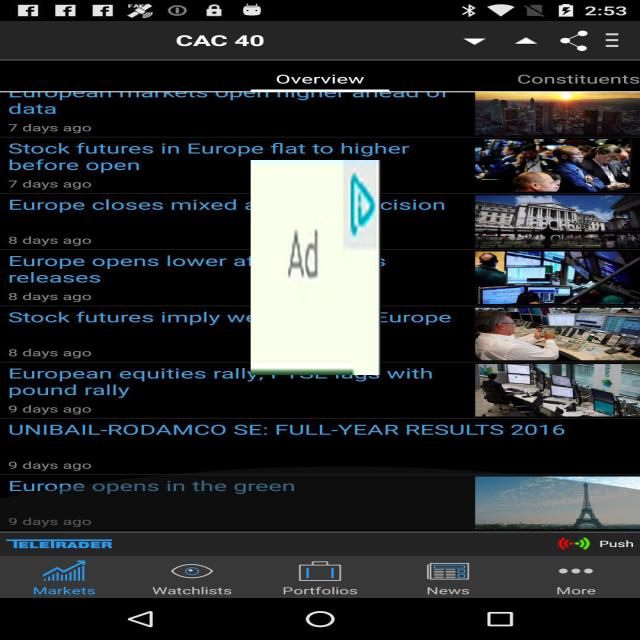sneaking: (251, 160, 381, 375)
